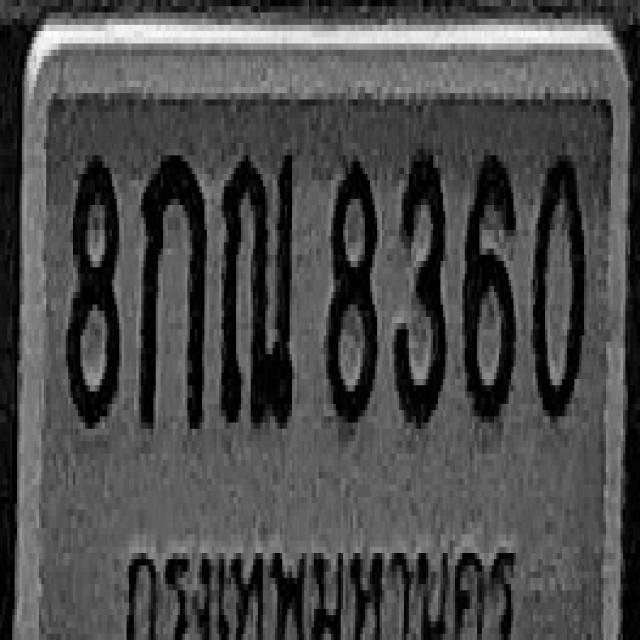0: (532, 146, 585, 419)
10GorGai: (137, 146, 205, 426)
28NorNen: (220, 143, 296, 429)
3: (393, 140, 447, 426)
6: (462, 146, 516, 419)
8: (66, 149, 119, 423), (326, 152, 377, 426)
Bangkok: (117, 503, 523, 640)
